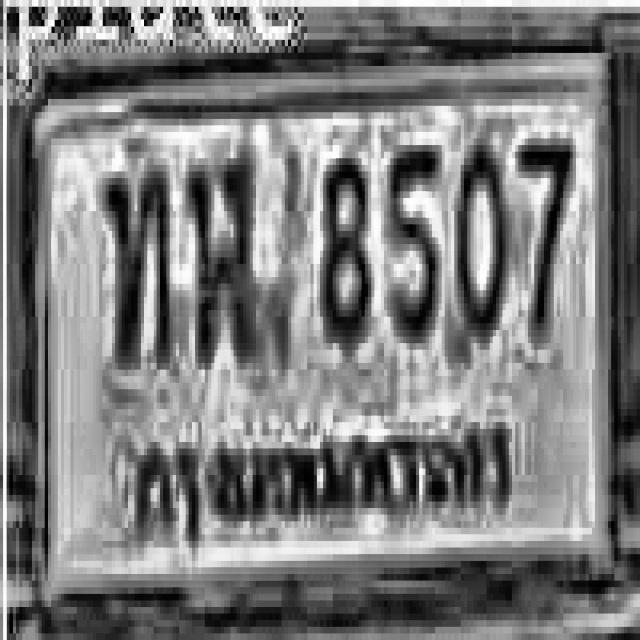license-plate: (32, 58, 620, 600)
